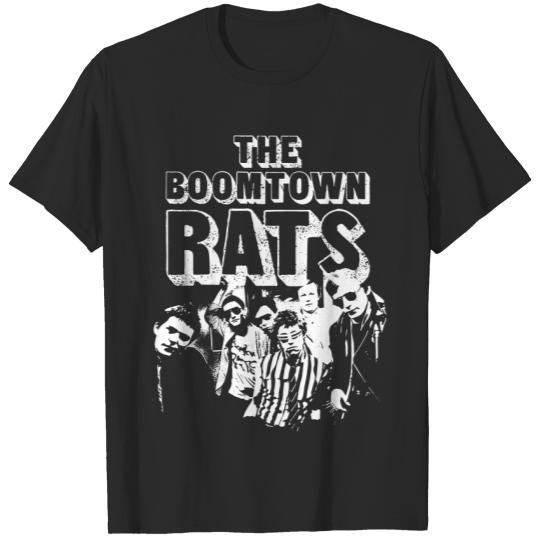design: (150, 132, 390, 434)
